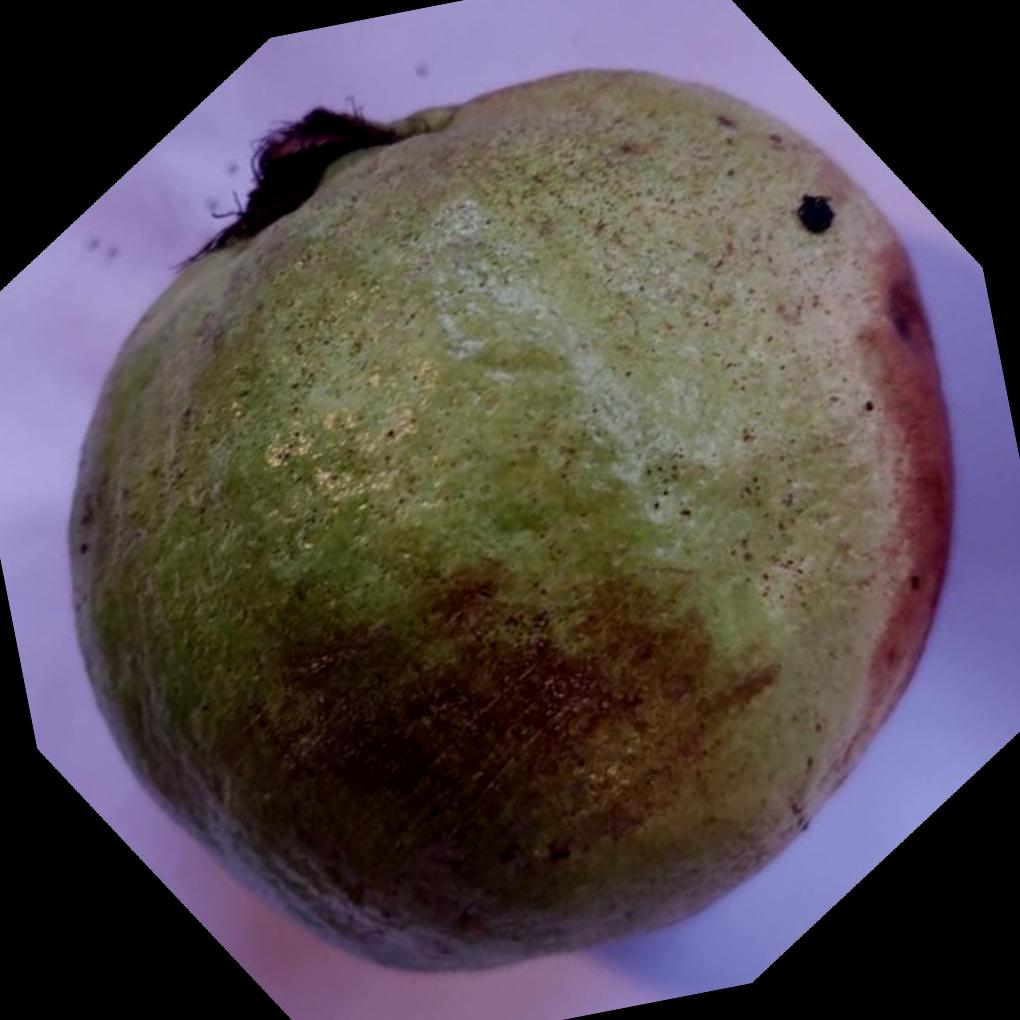FreshOrange: (66, 68, 956, 980)
